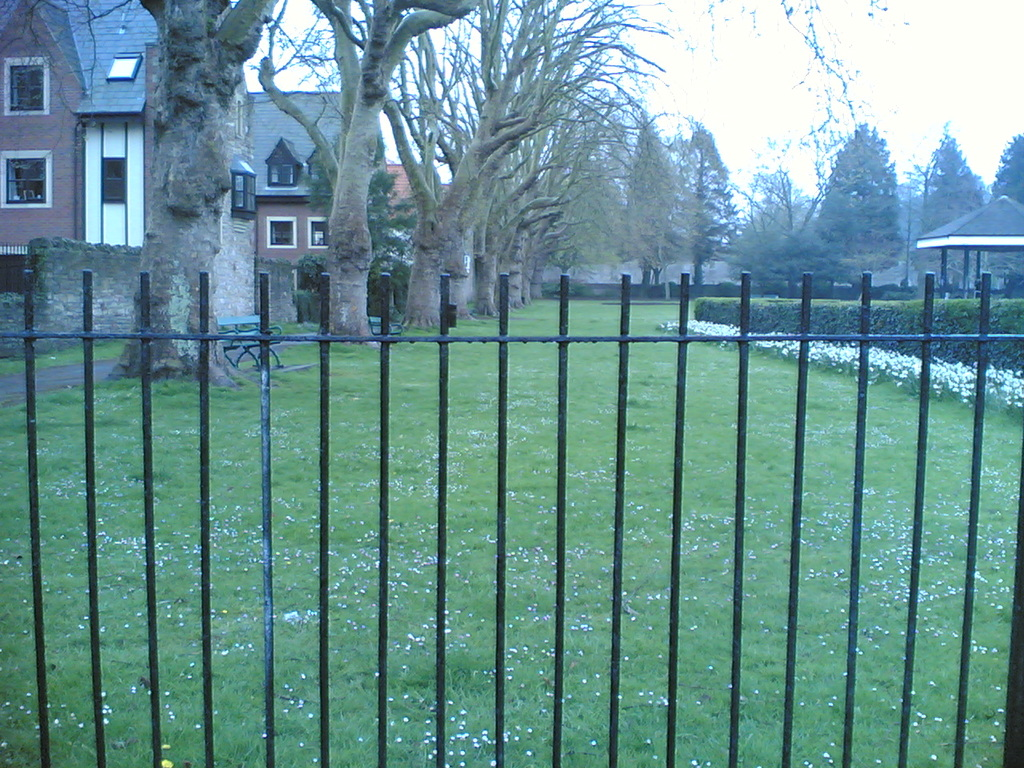Tree: (0, 0, 1023, 390)
